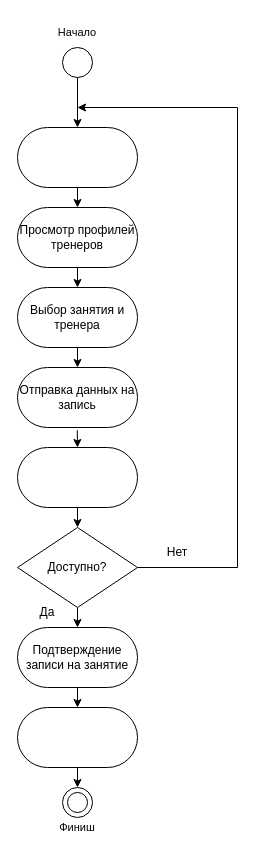
Some shapes in this 263 by 859 pixel diagram are drawn without their labels. Each missing label, with the centre of its shape:
"Поверка доступности занятия" goes at (x=77, y=477).
"Получение уведомления о записи" goes at (x=77, y=737).
"Просмотр расписания занятий" goes at (x=77, y=157).
